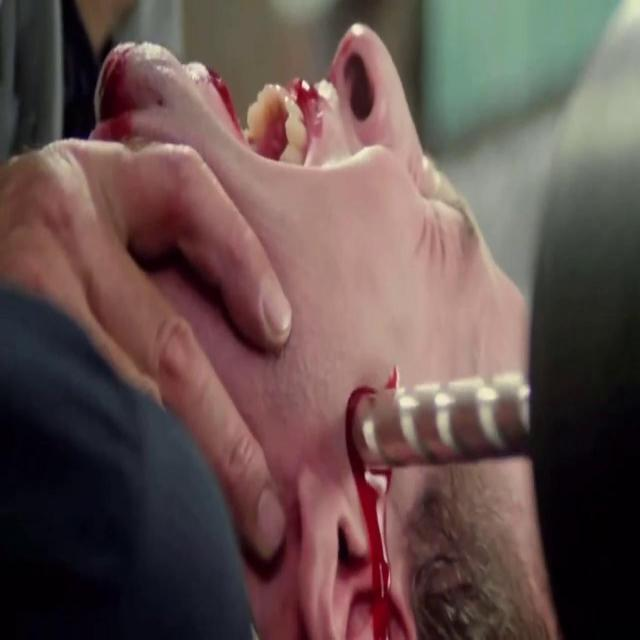flood: (91, 15, 329, 191), (338, 354, 407, 640)
